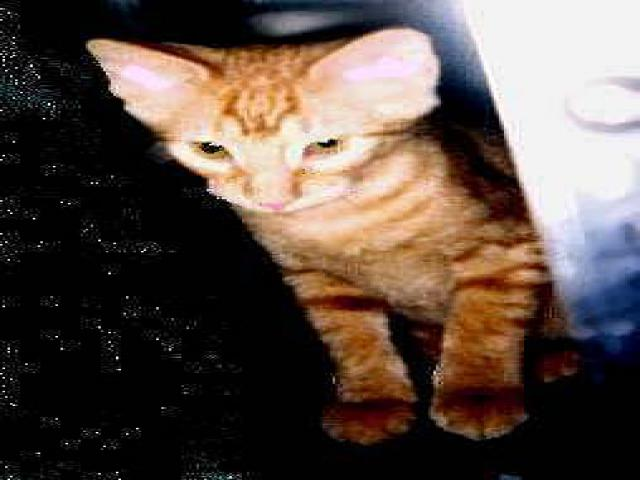cat: (72, 10, 574, 464)
